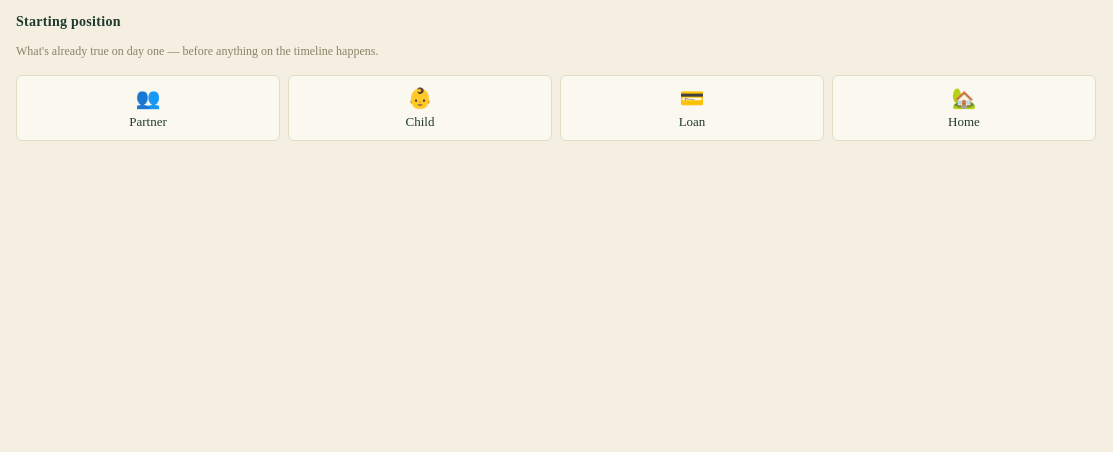
Test: StartingPositionPanel — accordion › clicking the open item's own toggle closes it
The image size is (1113, 452).
What coordinates should you click on to do the following:
click the button "💳 Loan"
I would click on:
 (692, 108)
Its box is [560, 75, 824, 141].
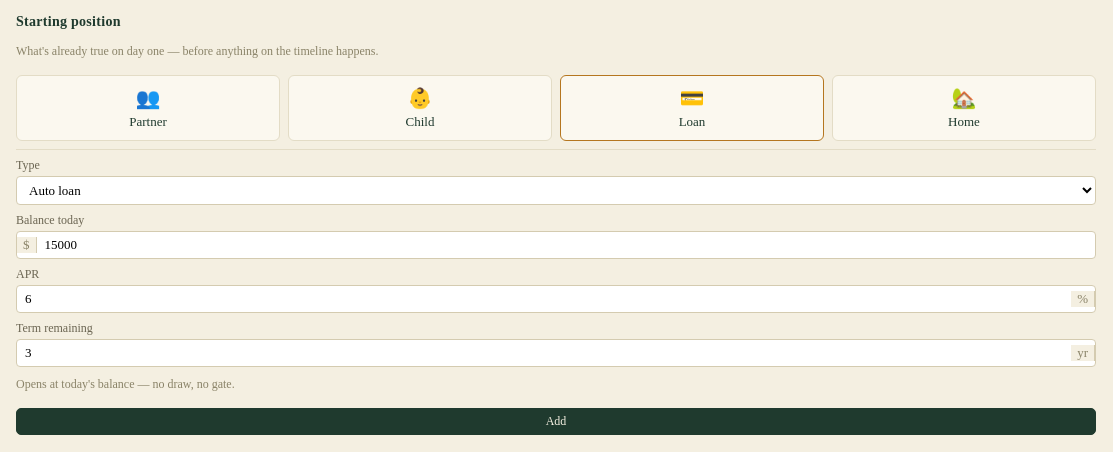
Result: the dropdown labelled "Type" is shown at [16, 176, 1096, 205]
What coordinates should you click on to do the following:
click the button "💳 Loan"
I would click on:
 (692, 108)
Its box is [560, 75, 824, 141].
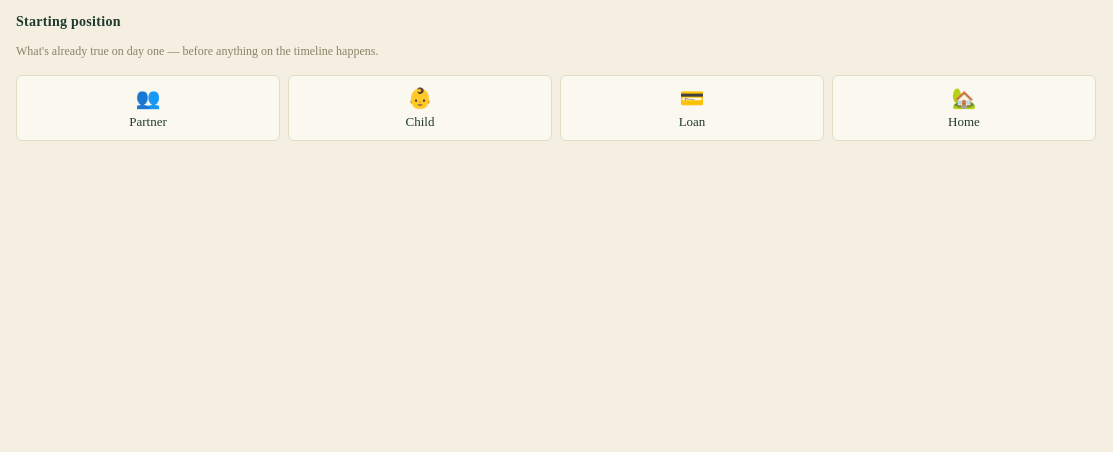
Result: the text "Type" is gone
